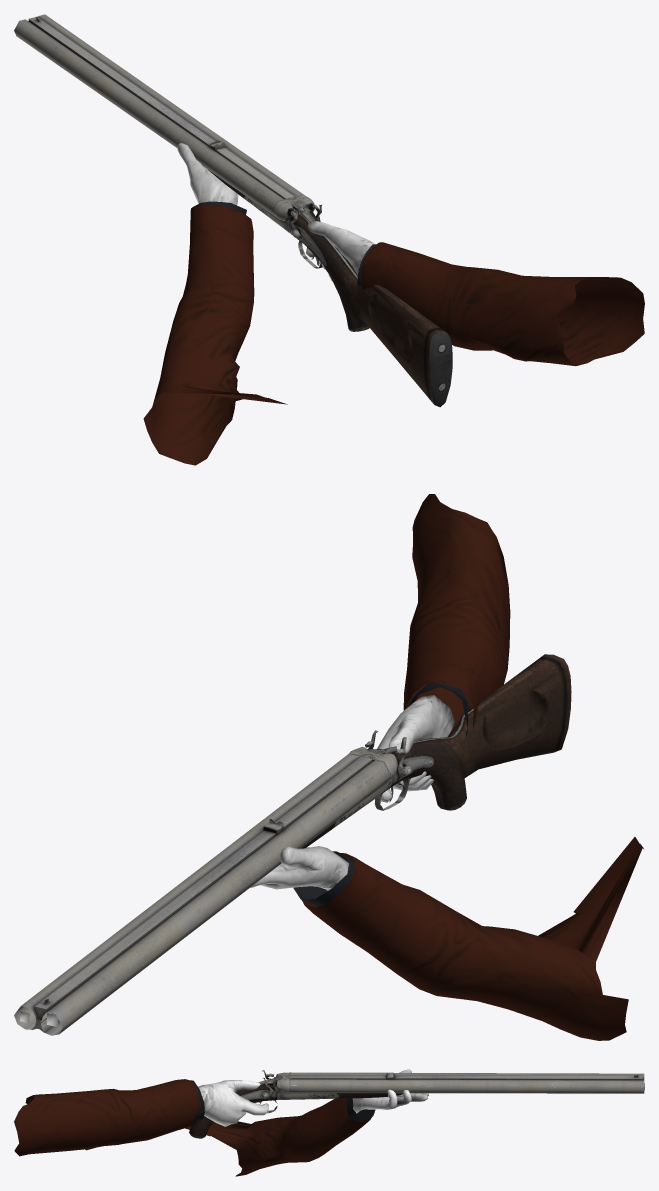
File: frame_25.obj
The picture shows the model from 3 angles, top to bottom: view 1: azimuth 30°, elevation 25°; view 2: azimuth 150°, elevation 25°; view 3: azimuth 270°, elevation 25°; orthographic projection. The views are drawn at different scales.
Parts seen in each view (by area): view 1: PlayerModelMerged.001_PlayerModelMerged, double_-_barreled_shotgun_L_double_-_barreled_shotgun_LP_к.002, double_-_barreled_shotgun_L_double_-_barreled_shotgun_LP_к.001; view 2: PlayerModelMerged.001_PlayerModelMerged, double_-_barreled_shotgun_L_double_-_barreled_shotgun_LP_к.002, double_-_barreled_shotgun_L_double_-_barreled_shotgun_LP_к.001; view 3: PlayerModelMerged.001_PlayerModelMerged, double_-_barreled_shotgun_L_double_-_barreled_shotgun_LP_к.002, double_-_barreled_shotgun_L_double_-_barreled_shotgun_LP_к.001.
Boxes of the visible parts, left/top/right/bottom form: PlayerModelMerged.001_PlayerModelMerged: left=143, top=143, right=644, bottom=465; double_-_barreled_shotgun_L_double_-_barreled_shotgun_LP_к.002: left=14, top=14, right=303, bottom=215; double_-_barreled_shotgun_L_double_-_barreled_shotgun_LP_к.001: left=208, top=170, right=452, bottom=407; PlayerModelMerged.001_PlayerModelMerged: left=250, top=494, right=644, bottom=1040; double_-_barreled_shotgun_L_double_-_barreled_shotgun_LP_к.002: left=14, top=754, right=389, bottom=1035; double_-_barreled_shotgun_L_double_-_barreled_shotgun_LP_к.001: left=301, top=654, right=571, bottom=848; PlayerModelMerged.001_PlayerModelMerged: left=14, top=1069, right=428, bottom=1176; double_-_barreled_shotgun_L_double_-_barreled_shotgun_LP_к.002: left=290, top=1072, right=644, bottom=1093; double_-_barreled_shotgun_L_double_-_barreled_shotgun_LP_к.001: left=85, top=1070, right=402, bottom=1150.
Size of the model in its own units: 0.8474 by 0.568 by 2.
